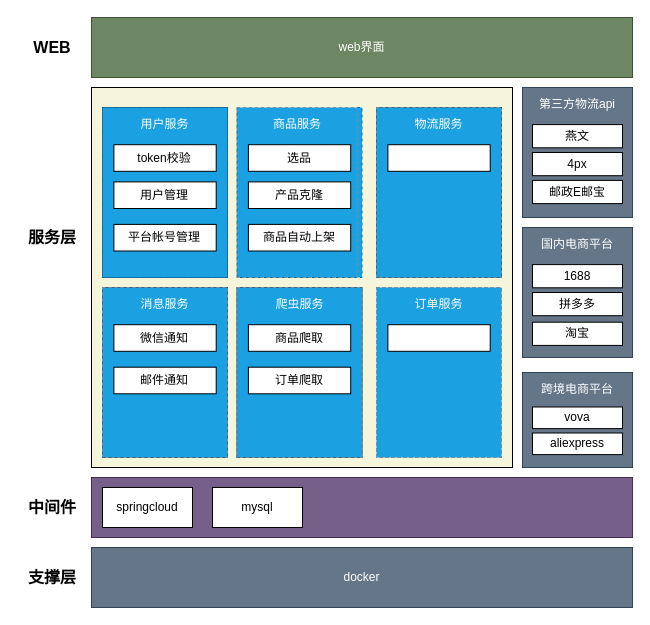
Some shapes in this 650 by 625 pixel diagram are drawn without their labels. The shapes that lost their labels are listed below. From the top down, each one's centre as x and y in pixels, then its label:
the point at 438,157: 多物流接入
the point at 438,337: 新订单实时通知
